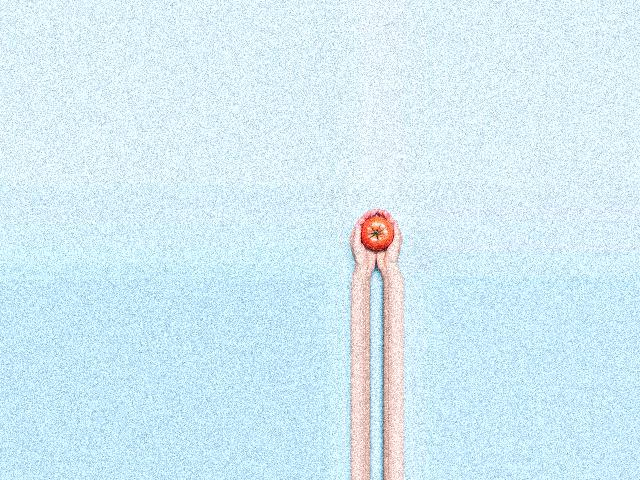tomato: (360, 216, 393, 250)
